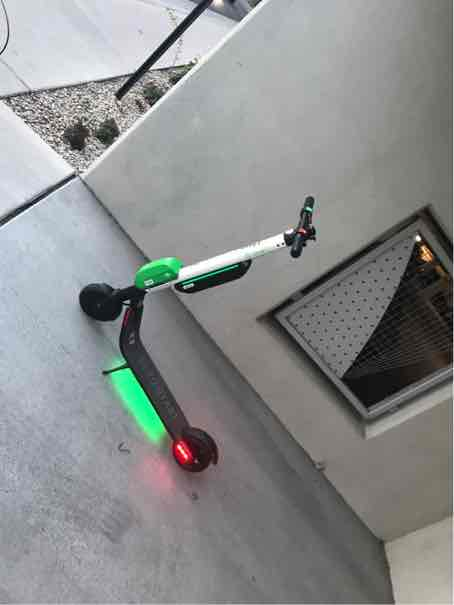scooter: (73, 191, 324, 485)
